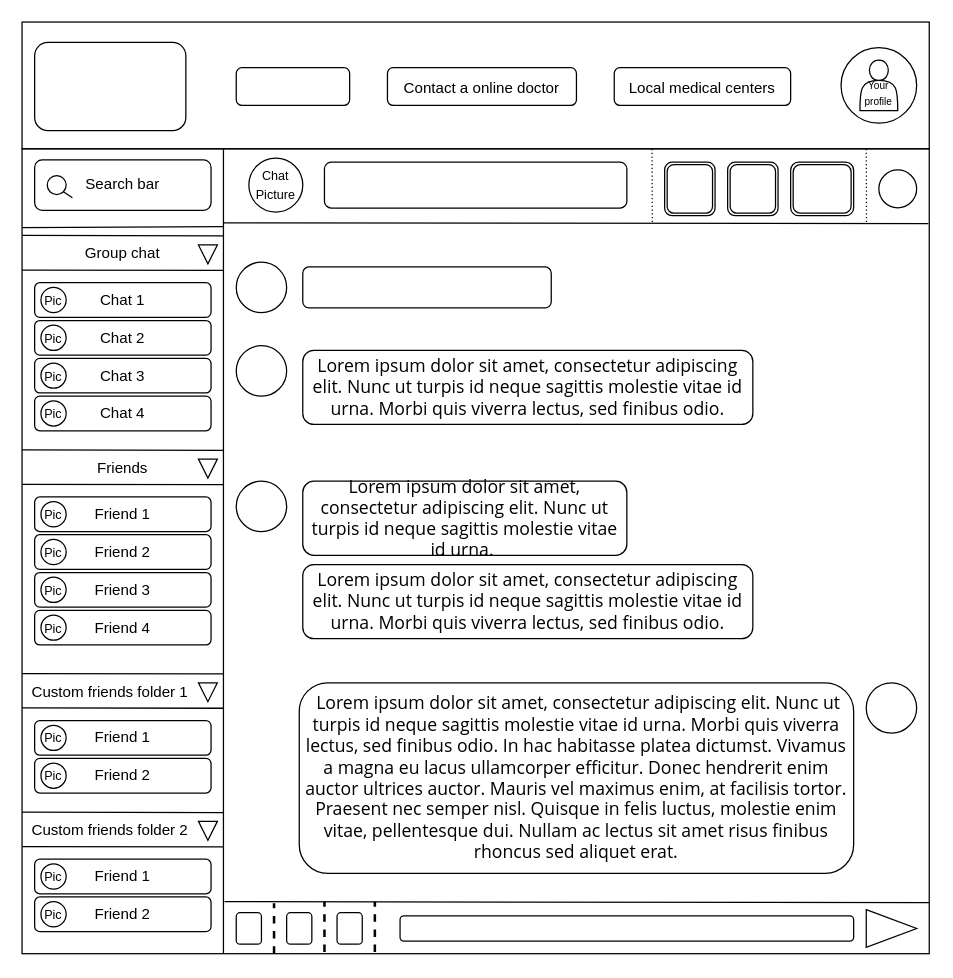
Image size: 953x978. Some labels were removed from this diagram. Here are the shapes that lost their labels. From the top down, the centre of each, then its label:
At [109,86]: "Your Health Logo".
At [292,85]: "Forum".
At [475,184]: "Group chat / Friend name".
At [689,188]: "Voice Call Button".
At [752,188]: "Video Call Button".
At [821,188]: "Settings Button".
At [897,188]: "Report".
At [426,287]: "Lorem ipsum dolor sit amet".
At [626,928]: "Write your message here".
At [891,927]: "Send".
